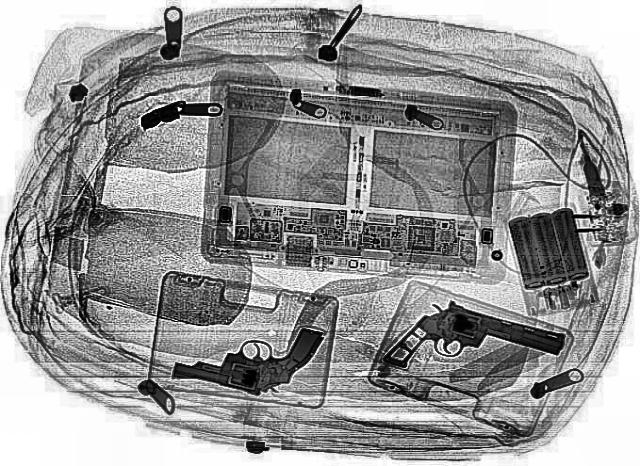Gun: (376, 292, 572, 406), (170, 306, 322, 400)
